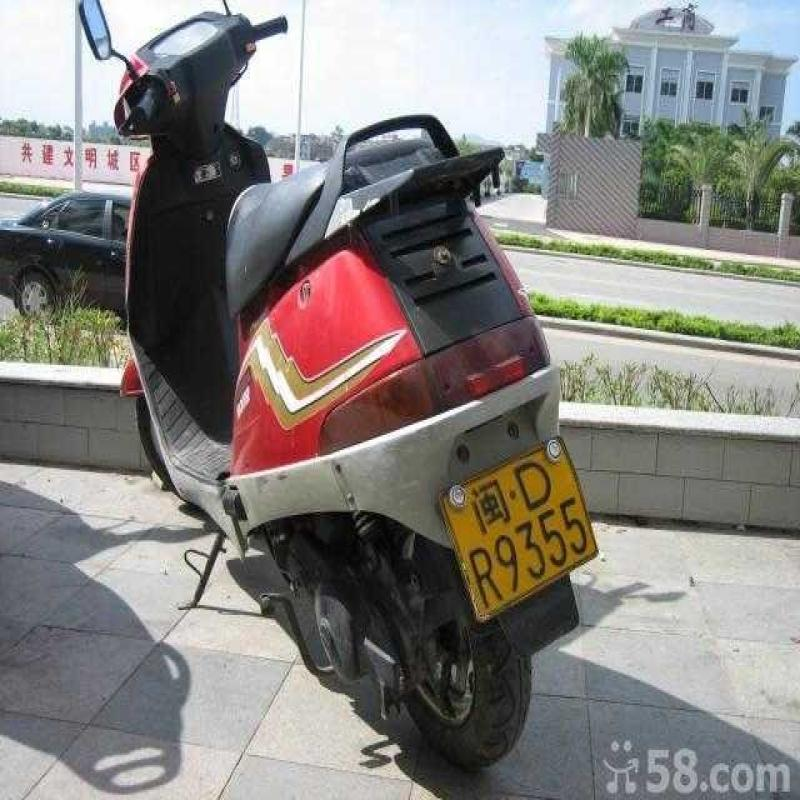bike: (29, 0, 606, 787)
